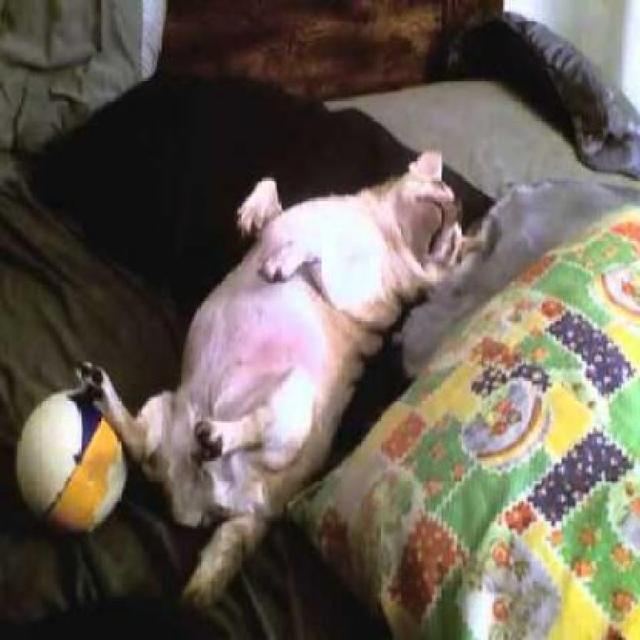Dog: (77, 146, 468, 612)
